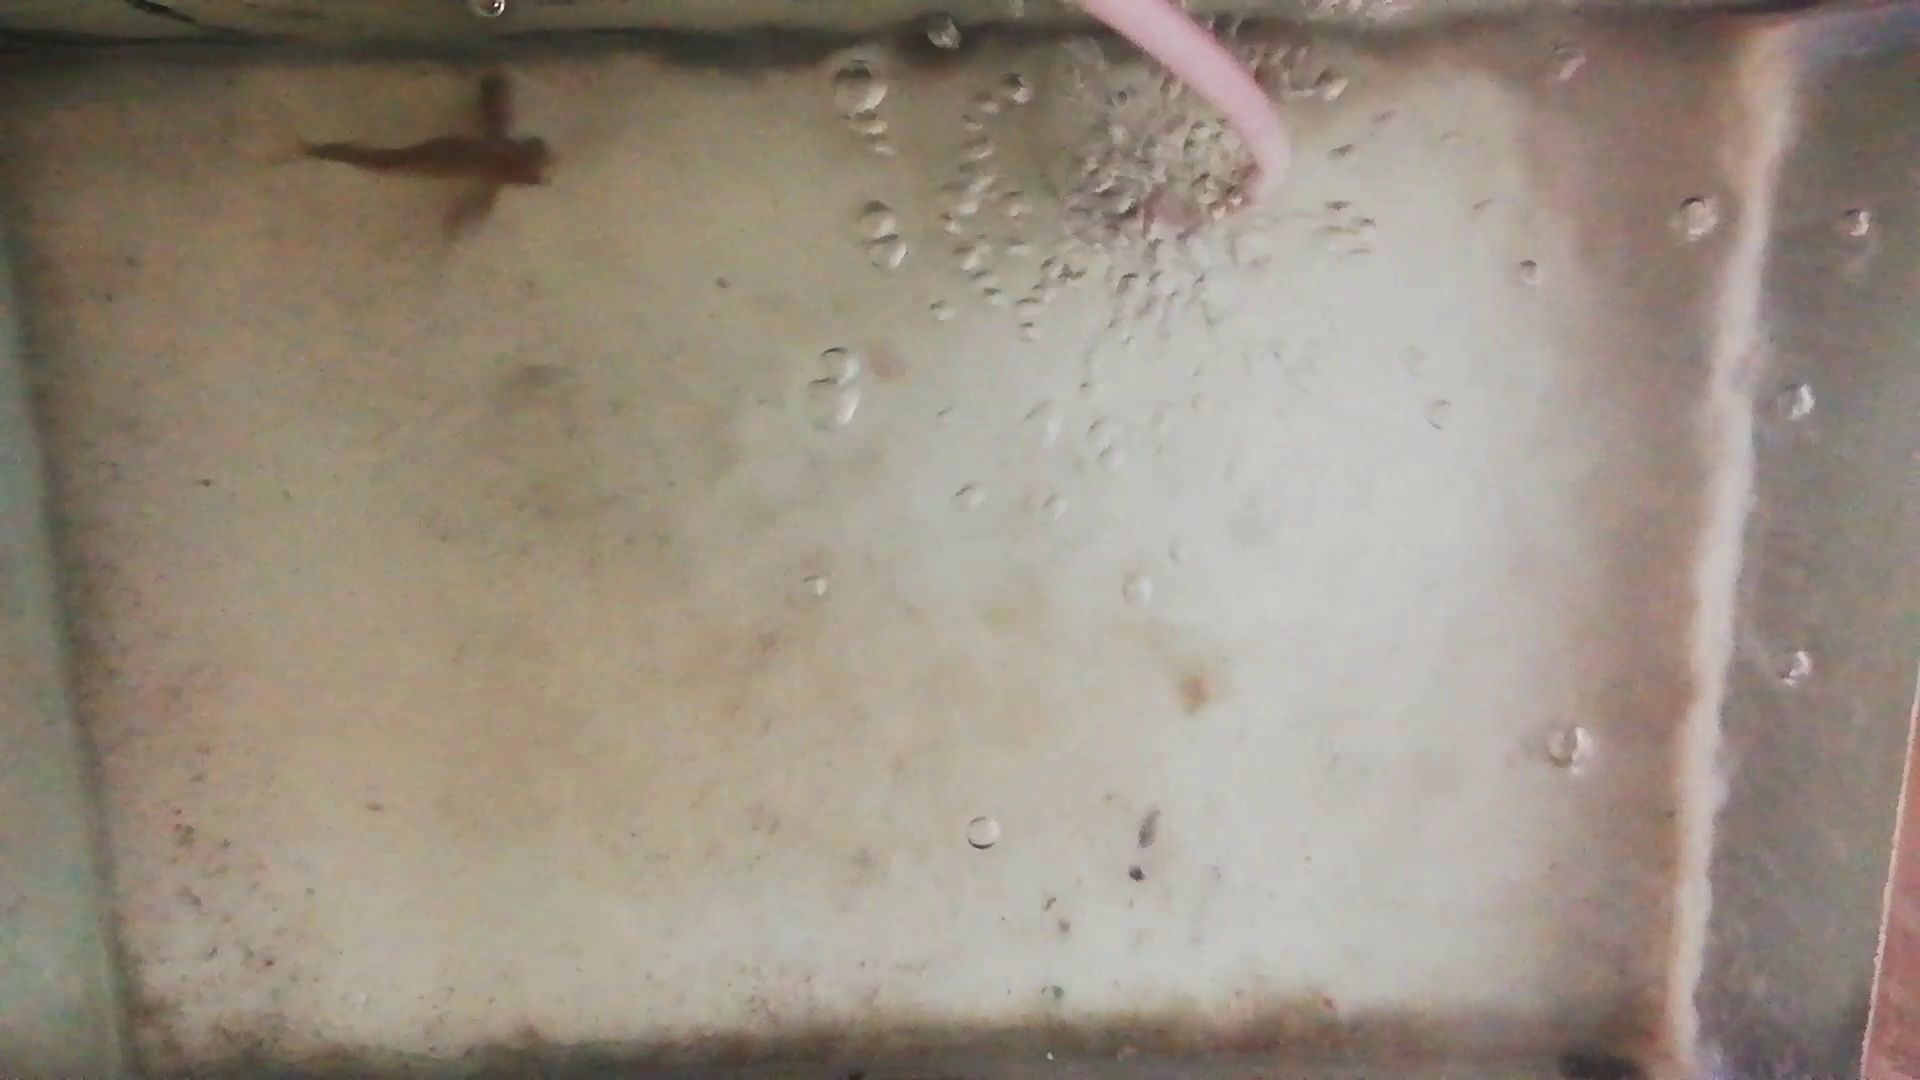fish: (298, 132, 564, 186), (443, 66, 516, 244)
